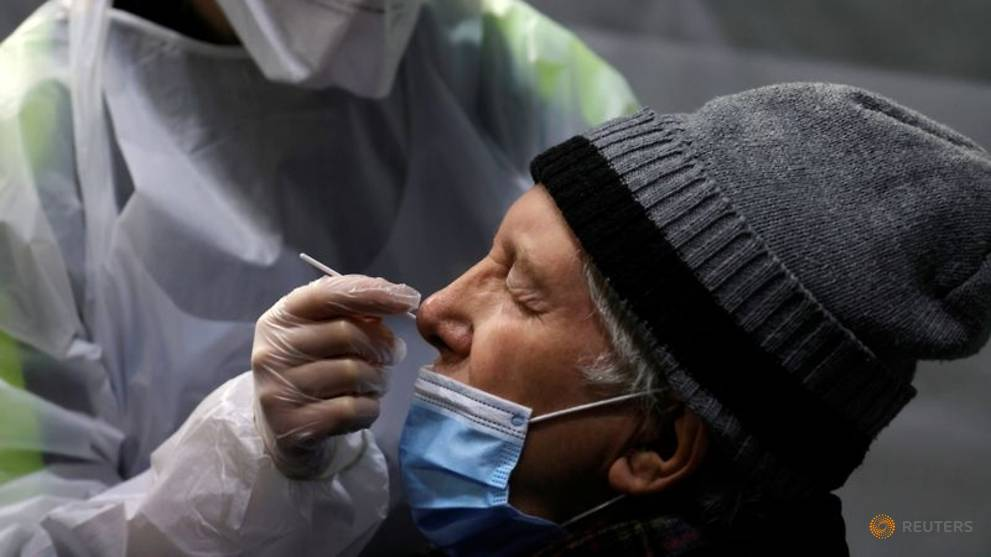Coverall: (2, 2, 627, 545)
Gloves: (231, 263, 425, 497)
mask_weared_incorrect: (401, 208, 585, 557)
